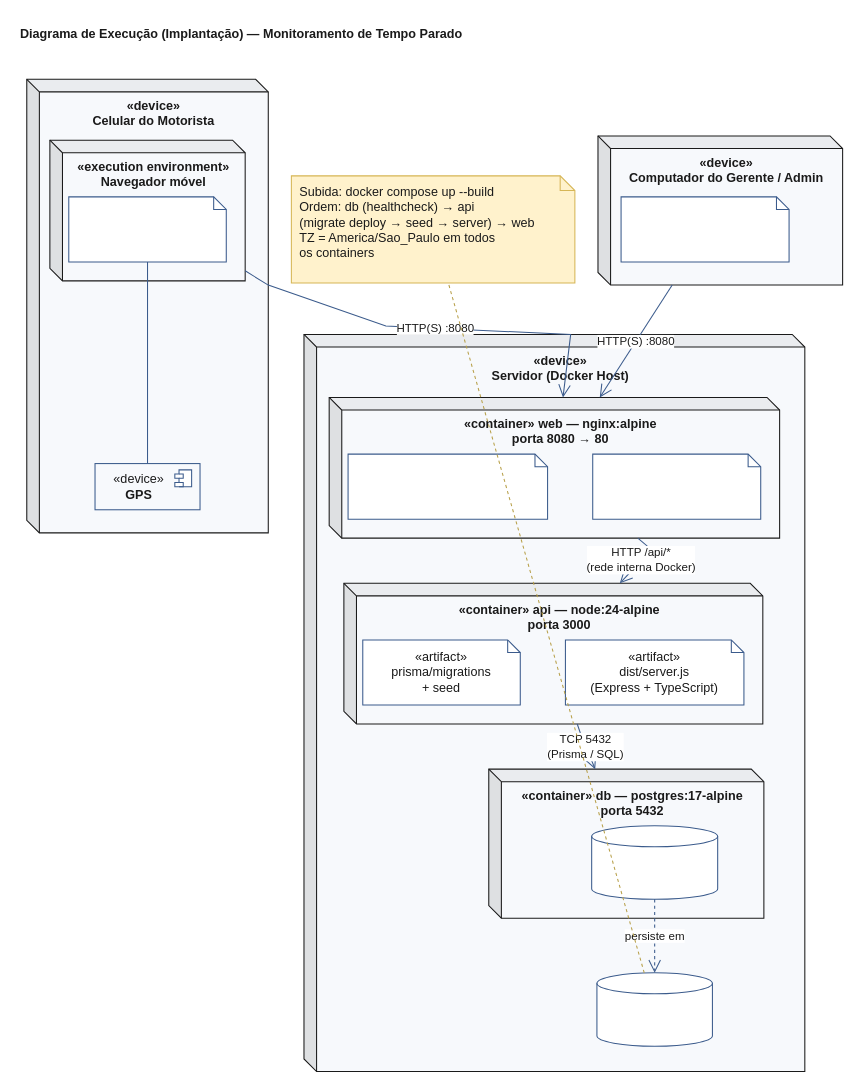
The diagram is 861 pixels wide and 1090 high, and some of its shapes have lost their labels. The centre of each missing label's shape, as x and y in pixels:
banco do MVP: (x=654, y=862)
«artifact» dist/ (build Vite) index.html + assets: (x=676, y=486)
«artifact» nginx.conf (SPA fallback + proxy /api): (x=447, y=486)
«artifact» SPA React (dashboard, cadastros): (x=704, y=229)
«artifact» SPA React (tela do motorista): (x=147, y=229)
«volume» pgdata: (x=654, y=1009)
